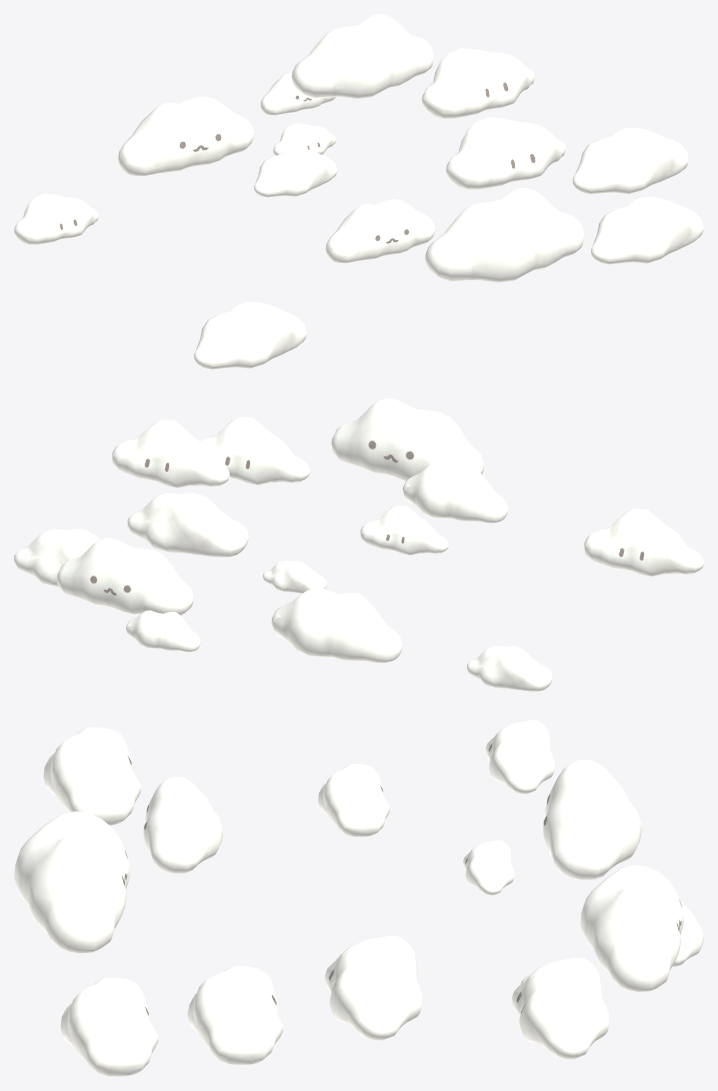
File: Clouds.glb
3 views of the same model, one above another, from view 1: azimuth 30°, elevation 25°; view 2: azimuth 150°, elevation 25°; view 3: azimuth 270°, elevation 25° (orthographic). The views are drawn at different scales.
Visible parts, largest first — view 1: Cloud_B.004, Cloud_B.002, Cloud_B, Cloud_A.007, Cloud_A.003, Cloud_A, Cloud_A.002, Cloud_A.005, Cloud_B.001, Cloud_A.006, Cloud_A.004, Cloud_B.003 (+1 smaller); view 2: Cloud_B.004, Cloud_B.002, Cloud_B, Cloud_A.007, Cloud_A.005, Cloud_A, Cloud_B.001, Cloud_A.002, Cloud_A.004, Cloud_A.006, Cloud_A.003, Cloud_B.003 (+1 smaller); view 3: Cloud_B.004, Cloud_B.002, Cloud_B, Cloud_A.007, Cloud_A.003, Cloud_A, Cloud_A.002, Cloud_A.005, Cloud_B.001, Cloud_A.004, Cloud_A.006, Cloud_A.001 (+1 smaller).
Part boxes in pixels (x1,y1,x2,y2): Cloud_B.004: (424, 188, 584, 282); Cloud_B.002: (291, 14, 433, 98); Cloud_B: (118, 96, 254, 176); Cloud_A.007: (446, 117, 565, 189); Cloud_A.003: (421, 48, 534, 119); Cloud_A: (572, 127, 688, 194); Cloud_A.002: (591, 197, 703, 264); Cloud_A.005: (194, 302, 306, 369); Cloud_B.001: (325, 199, 435, 263); Cloud_A.006: (14, 193, 98, 244); Cloud_A.004: (254, 147, 337, 197); Cloud_B.003: (260, 73, 335, 115); Cloud_B.004: (331, 398, 484, 481); Cloud_B.002: (57, 538, 193, 615); Cloud_B: (271, 588, 402, 663); Cloud_A.007: (127, 493, 248, 557); Cloud_A.005: (584, 508, 703, 576); Cloud_A: (112, 419, 229, 488); Cloud_B.001: (402, 463, 507, 523); Cloud_A.002: (199, 417, 309, 485); Cloud_A.004: (360, 505, 448, 555); Cloud_A.006: (467, 646, 552, 691); Cloud_A.003: (14, 528, 99, 587); Cloud_B.003: (126, 610, 200, 651); Cloud_B.004: (14, 811, 129, 953); Cloud_B.002: (580, 865, 683, 992); Cloud_B: (542, 759, 641, 880); Cloud_A.007: (324, 935, 422, 1040); Cloud_A.003: (511, 957, 609, 1059); Cloud_A: (187, 965, 282, 1065); Cloud_A.002: (60, 977, 158, 1076); Cloud_A.005: (43, 727, 140, 825); Cloud_B.001: (143, 776, 223, 873); Cloud_A.004: (318, 764, 389, 837); Cloud_A.006: (485, 720, 555, 794); Cloud_A.001: (463, 840, 514, 895).
Size of the model in its own units: 1528 by 267 by 1270.
Materials: 2 (2 with a texture image).
